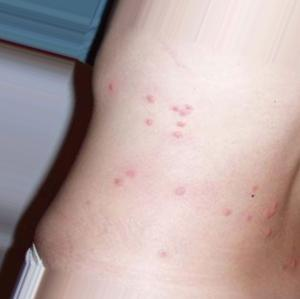Fleas: (260, 200, 281, 219), (172, 183, 190, 200), (257, 223, 274, 241), (285, 253, 299, 269), (124, 165, 137, 178), (143, 116, 155, 129), (169, 102, 182, 114), (172, 128, 186, 139), (220, 206, 232, 218), (182, 103, 194, 115), (144, 93, 156, 104), (158, 248, 169, 259), (114, 178, 124, 188), (178, 107, 189, 116), (107, 81, 115, 92), (179, 120, 185, 128)
